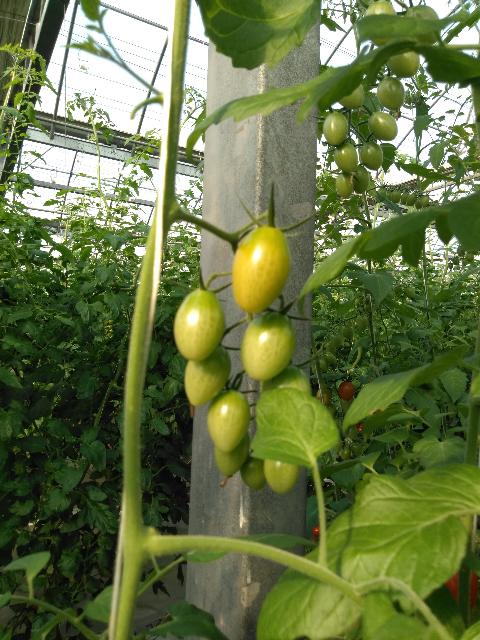l_green: (240, 311, 295, 382), (174, 289, 225, 362), (206, 389, 251, 454), (185, 343, 231, 406), (260, 365, 312, 397), (214, 430, 249, 477), (364, 2, 398, 47), (404, 5, 442, 45), (264, 459, 300, 495), (377, 76, 405, 111), (240, 456, 268, 491), (368, 112, 398, 142), (386, 52, 420, 78), (323, 112, 348, 146), (334, 142, 358, 173), (337, 84, 365, 110), (360, 141, 383, 171), (351, 164, 370, 195), (336, 171, 354, 200), (356, 313, 368, 330), (341, 324, 353, 339), (376, 187, 387, 203), (330, 333, 342, 347), (391, 189, 402, 204), (324, 352, 337, 364), (406, 193, 418, 206), (351, 442, 362, 456), (404, 286, 415, 299), (400, 191, 410, 205), (342, 448, 352, 460), (421, 194, 429, 207), (415, 196, 422, 210), (386, 191, 392, 201)
l_half_ripened: (233, 227, 291, 314), (338, 381, 354, 401), (316, 388, 331, 406)
